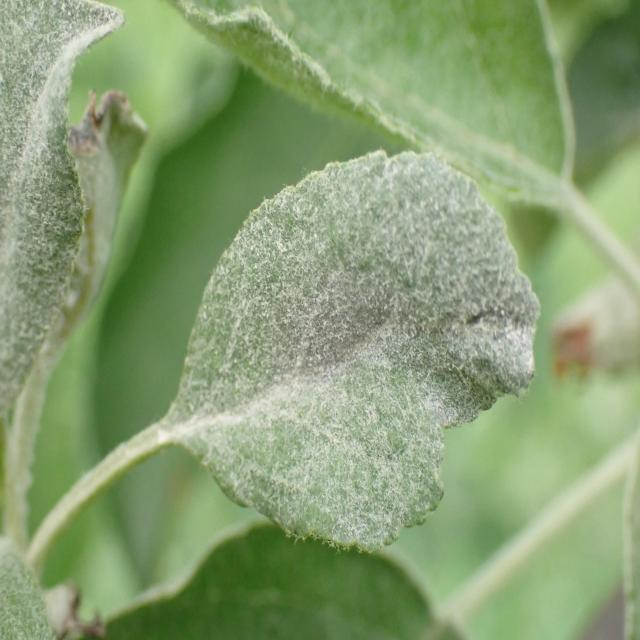Powdery_mildew: (163, 146, 563, 564), (164, 0, 622, 228), (0, 0, 130, 452)
